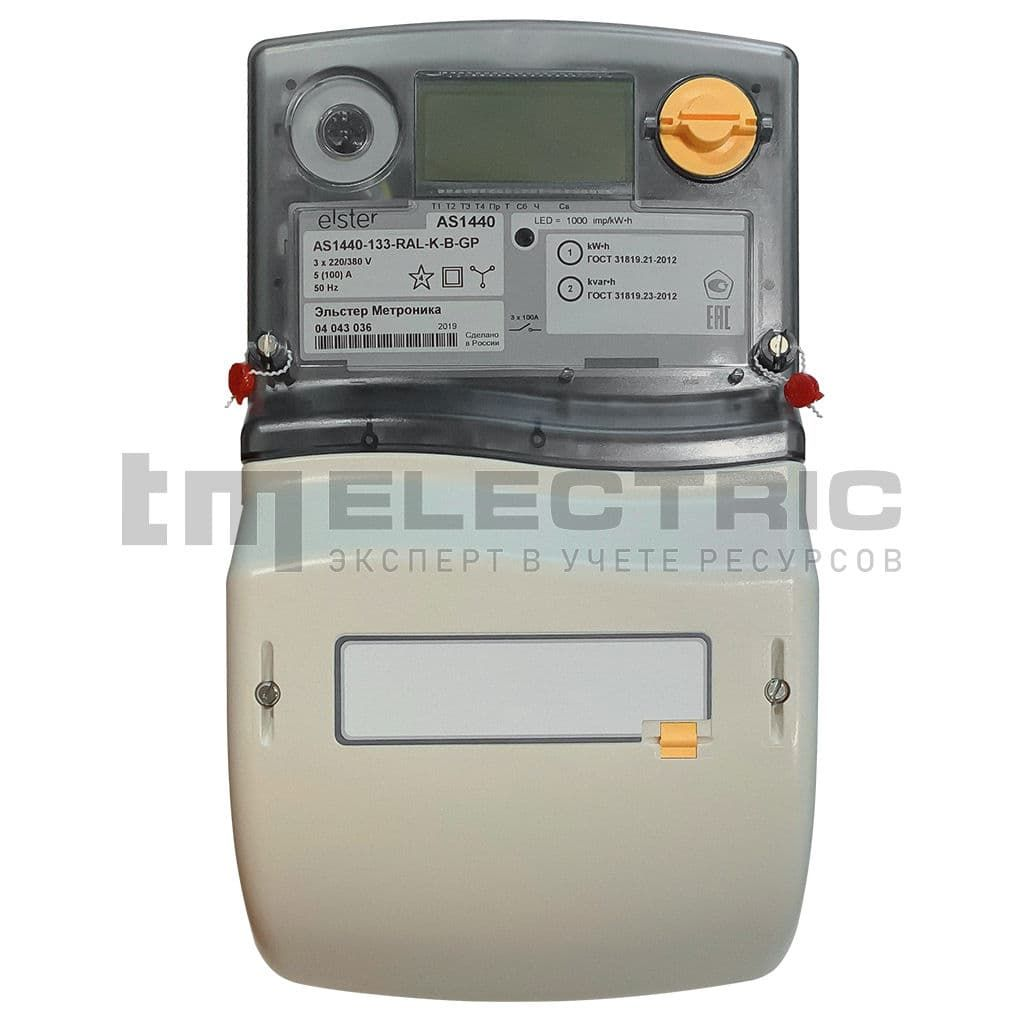counter: (226, 19, 845, 905)
counter_screen: (412, 69, 641, 190)
